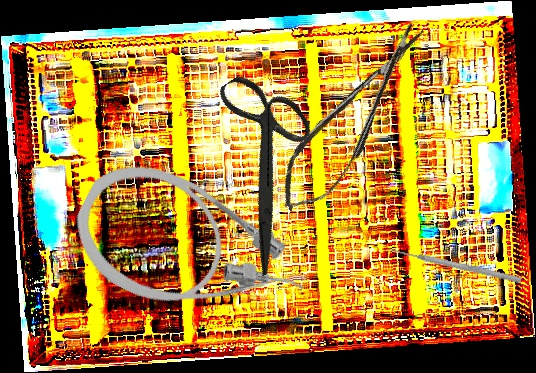Cannula: (57, 142, 323, 362)
Iris Scissors: (162, 57, 366, 277)
Micro Scissor: (263, 13, 445, 224)
Pusher: (385, 244, 523, 285)
